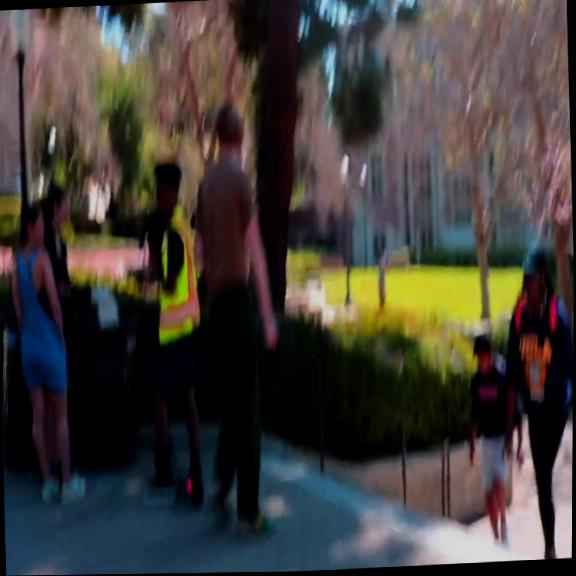safety_vest: (151, 206, 201, 345)
